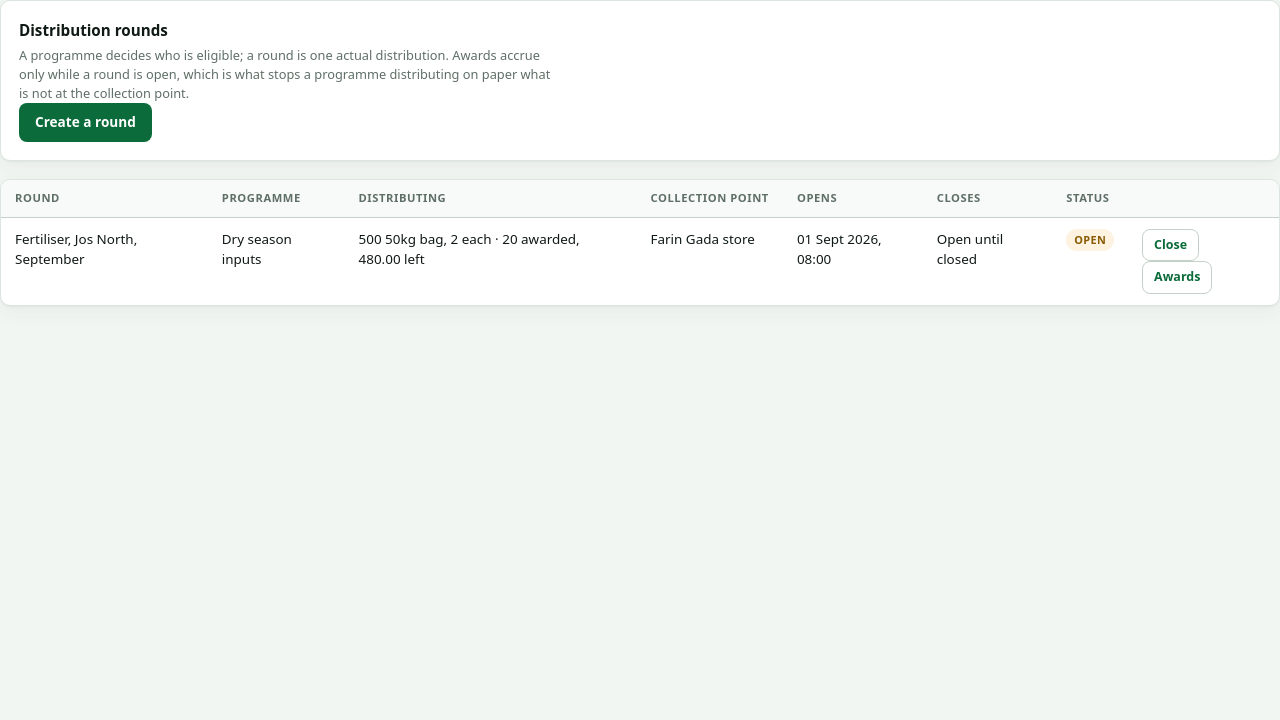
it: the awards drawer › still says so when nobody has been
Expected: the text "Fertiliser, Jos North, September" is shown, x1=1 y1=217 x2=208 y2=305
Click the button "Awards". click: (1177, 278)
box: x1=1142 y1=261 x2=1212 y2=294
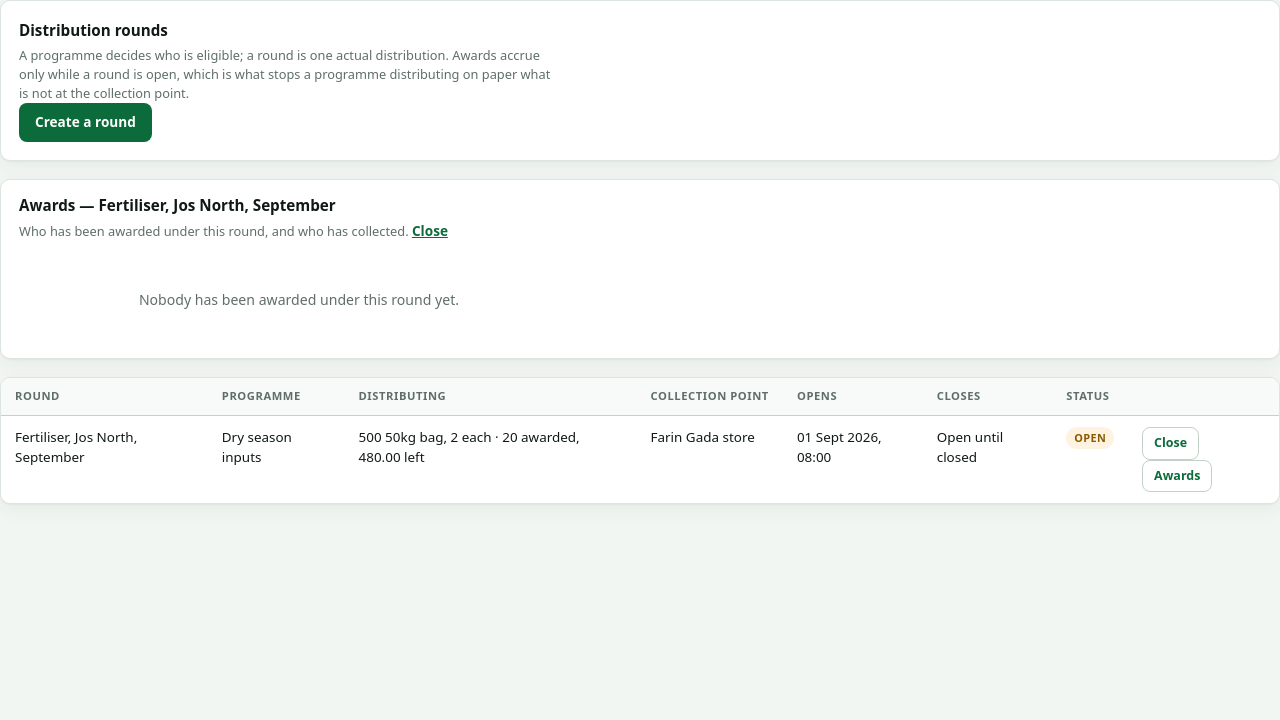
Expected: the text "Nobody has been awarded under this round yet." is shown, x1=139 y1=290 x2=459 y2=309
